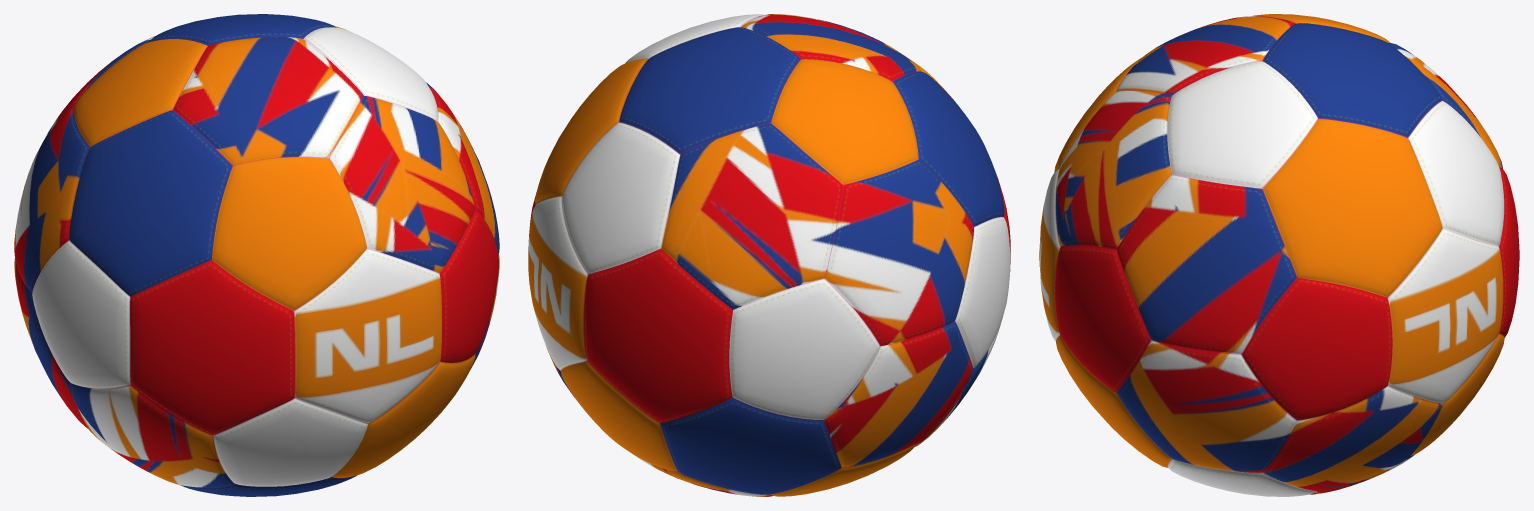
The model's file is Ball-3b.glb.
3 renders of one model, left to right at view 1: azimuth 30°, elevation 25°; view 2: azimuth 150°, elevation 25°; view 3: azimuth 270°, elevation 25°, orthographic.
Visible parts, largest first — view 1: Ball.001; view 2: Ball.001; view 3: Ball.001.
Boxes of the visible parts, x1=… form: Ball.001: x1=14, y1=14, x2=499, y2=496; Ball.001: x1=528, y1=14, x2=1010, y2=496; Ball.001: x1=1039, y1=14, x2=1519, y2=496.
Size of the model in its own units: 1.56 by 1.55 by 1.55.
Materials: 1 (1 with a texture image).
